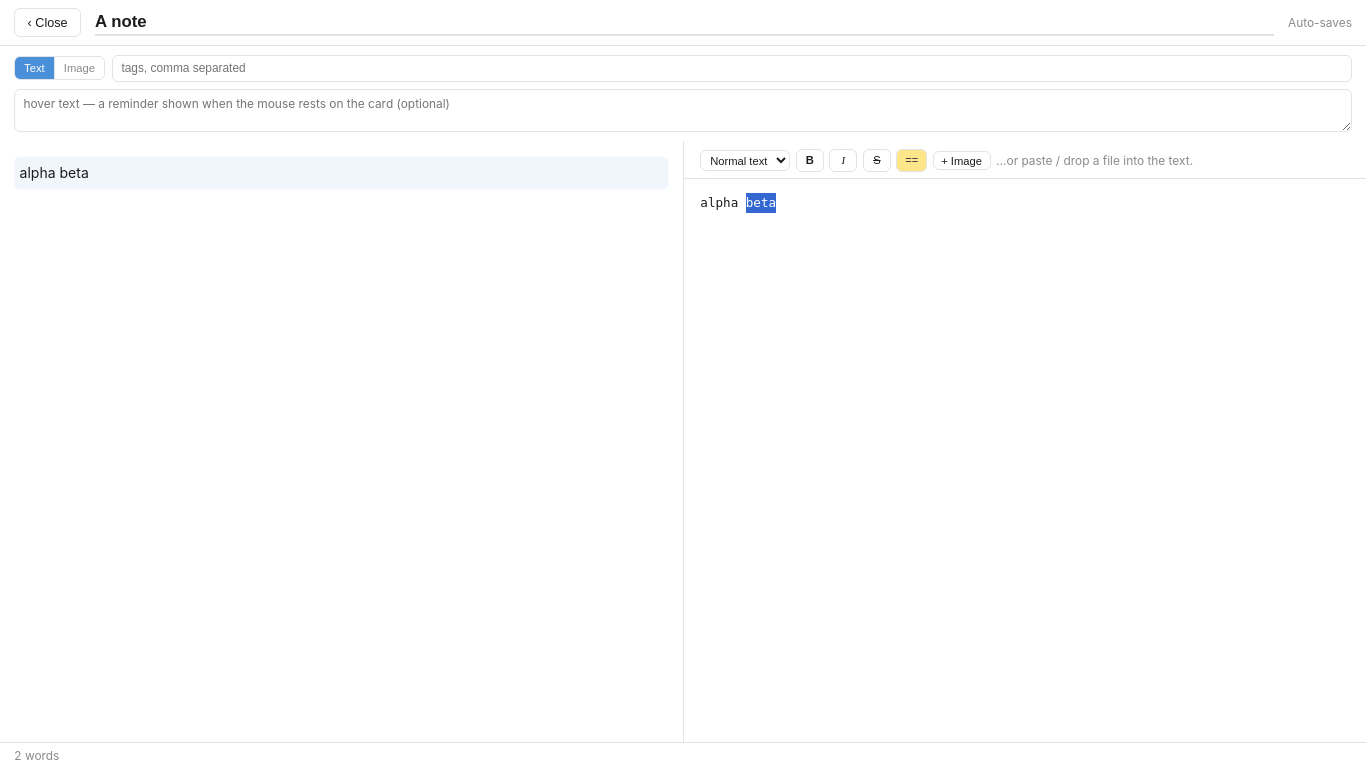
Test: formatting toolbar › has a strikethrough button
Expected: the text box with placeholder "Write in Markdown…" holds "alpha beta", [684,179,1365,742]
What coordinates should you click on to do the following:
click the button named "Strikethrough"
I would click on:
 (877, 161)
Its box is [863,149,891,172].
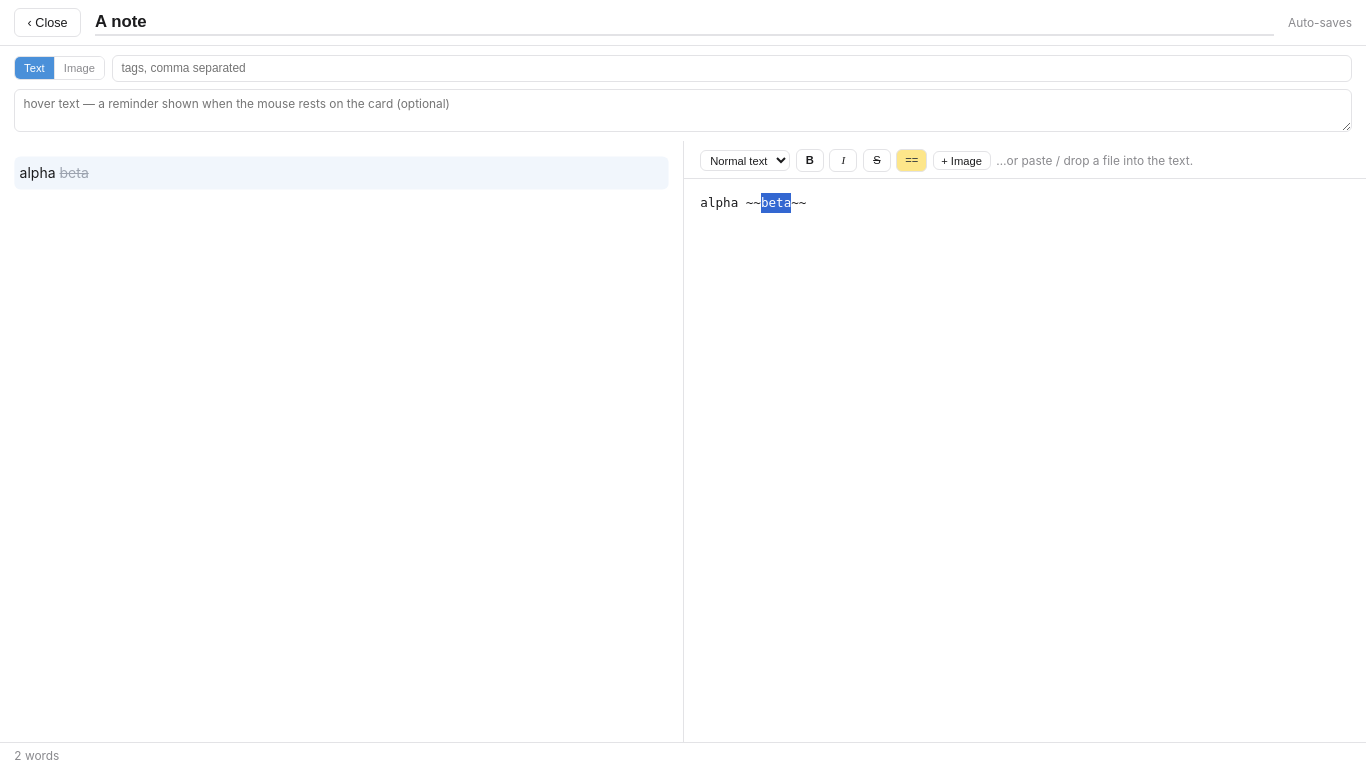
Expected: the text box with placeholder "Write in Markdown…" holds "alpha ~~beta~~", [684,179,1365,742]
